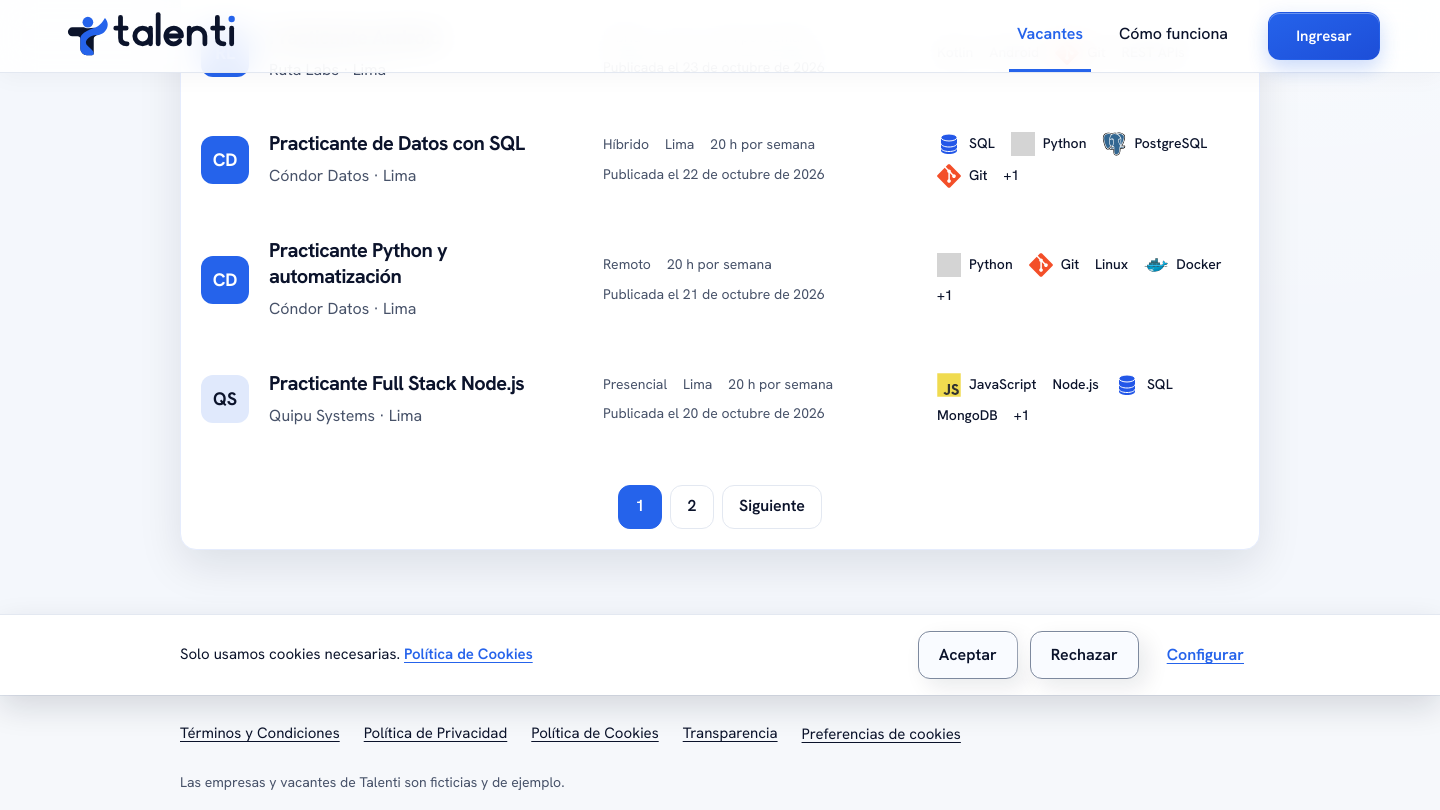
Page /oportunidades: states (004-19) › moves the focus to the title of the results when the page changes
(page scrolled)
What coordinates should you click on to do the following:
click the link named "Página 2"
I would click on:
 (692, 507)
Its box is [670,485,714,529].
(page scrolled)
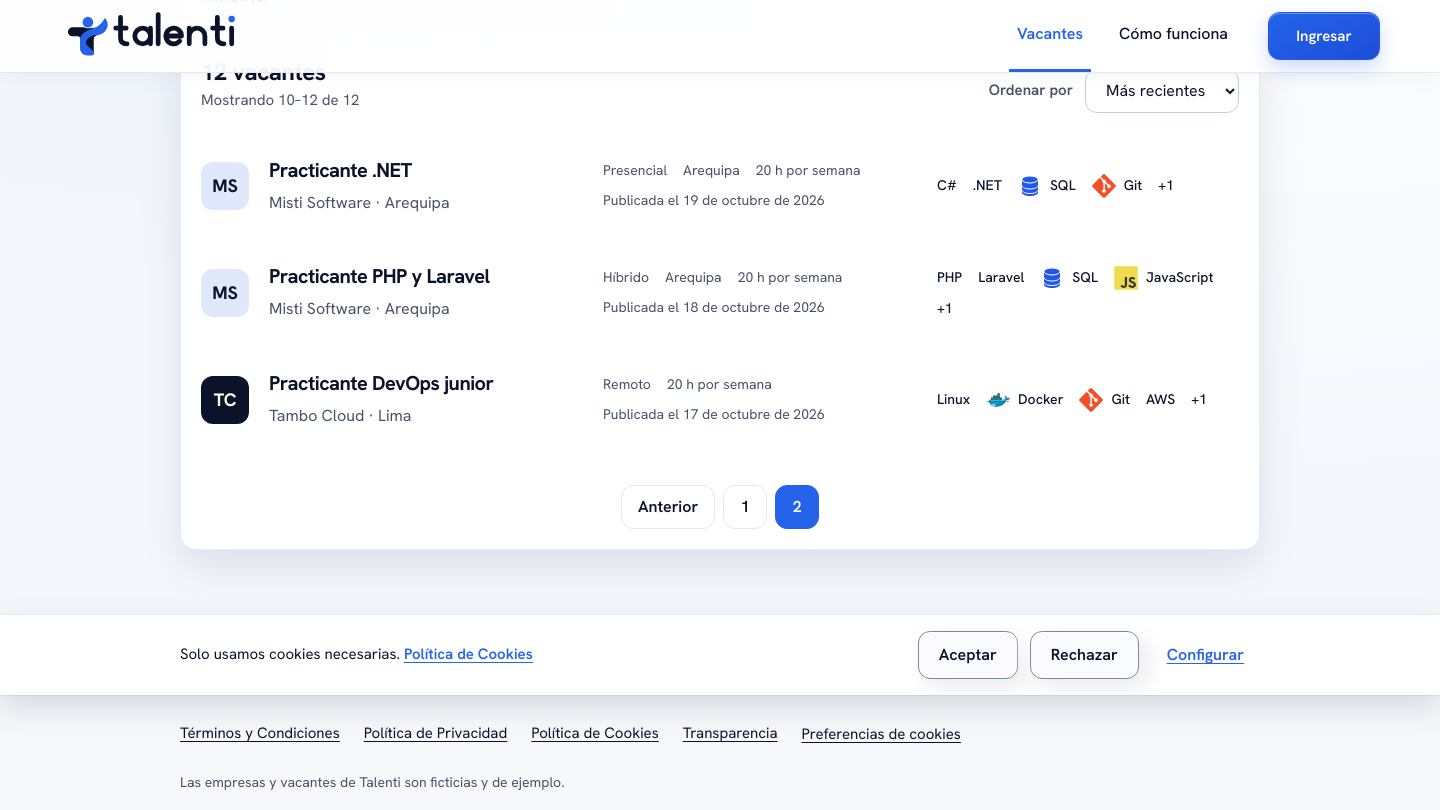
Result: the text "Mostrando 10–12 de 12" is shown at [201,89,359,113]
